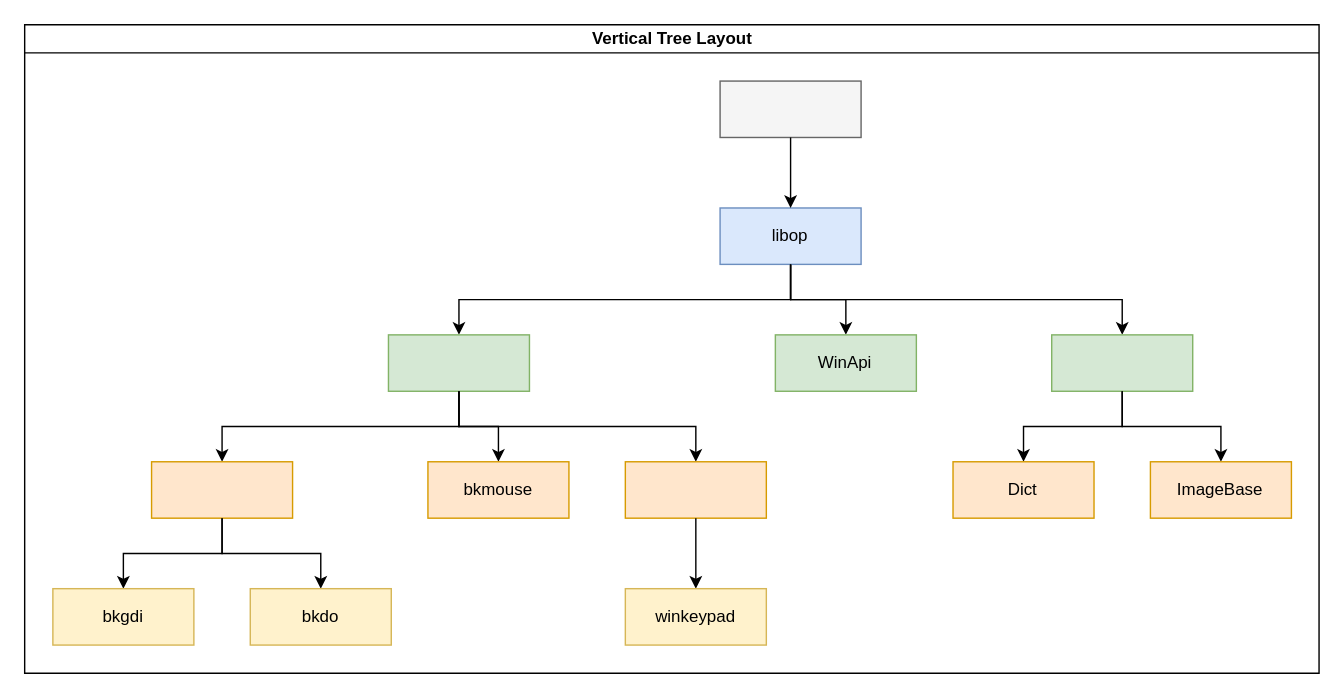
The diagram is 1344 pixels wide and 698 high, and some of its shapes have lost their labels. Each missing label, with the centre of its shape:
bkbase: point (458, 362)
bkkeypad: point (695, 489)
com: point (790, 108)
IDisplay: point (221, 489)
ImageProc: point (1121, 362)
